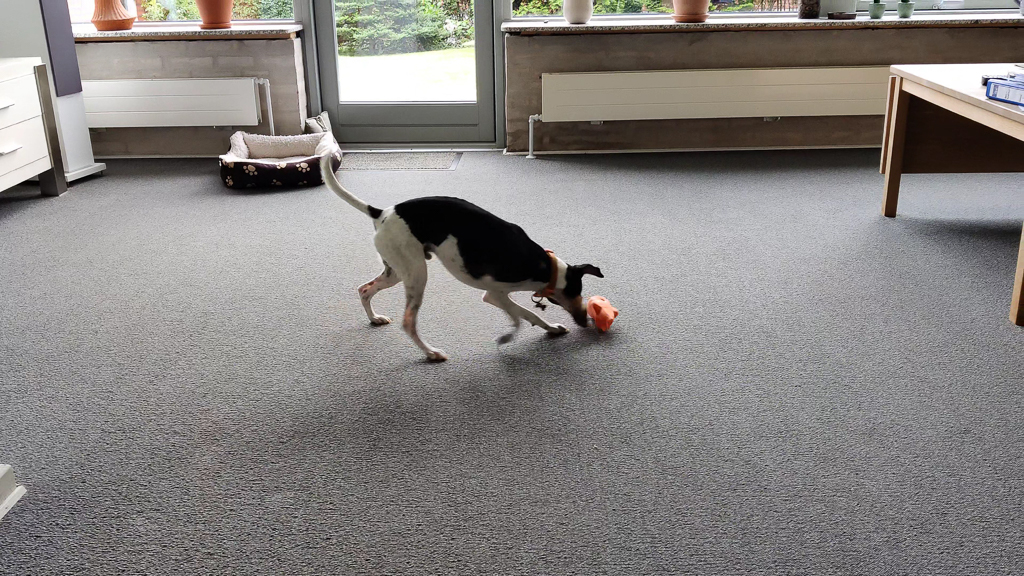Dog: (315, 140, 609, 367)
Eagle: (439, 16, 464, 47)
Humanoid: (87, 0, 141, 23)
